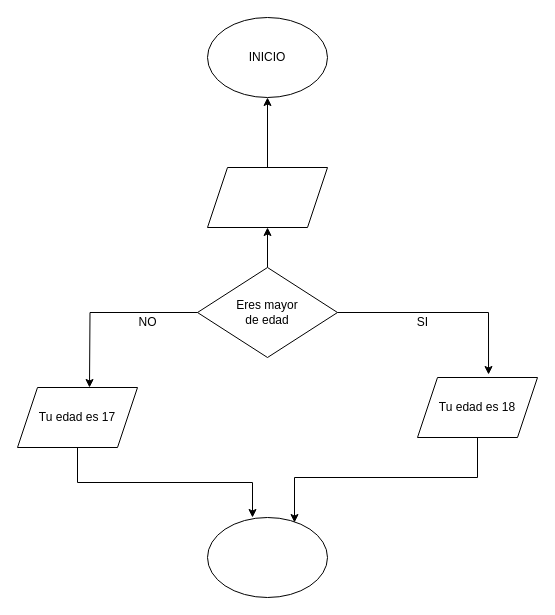
Image size: 555x615. Some labels were removed from this diagram. Here are the shapes that lost their labels. From the top down, the centre of each, then its label:
At pixel 267 197: "Ingresa tu edad".
At pixel 267 557: "FIN".
